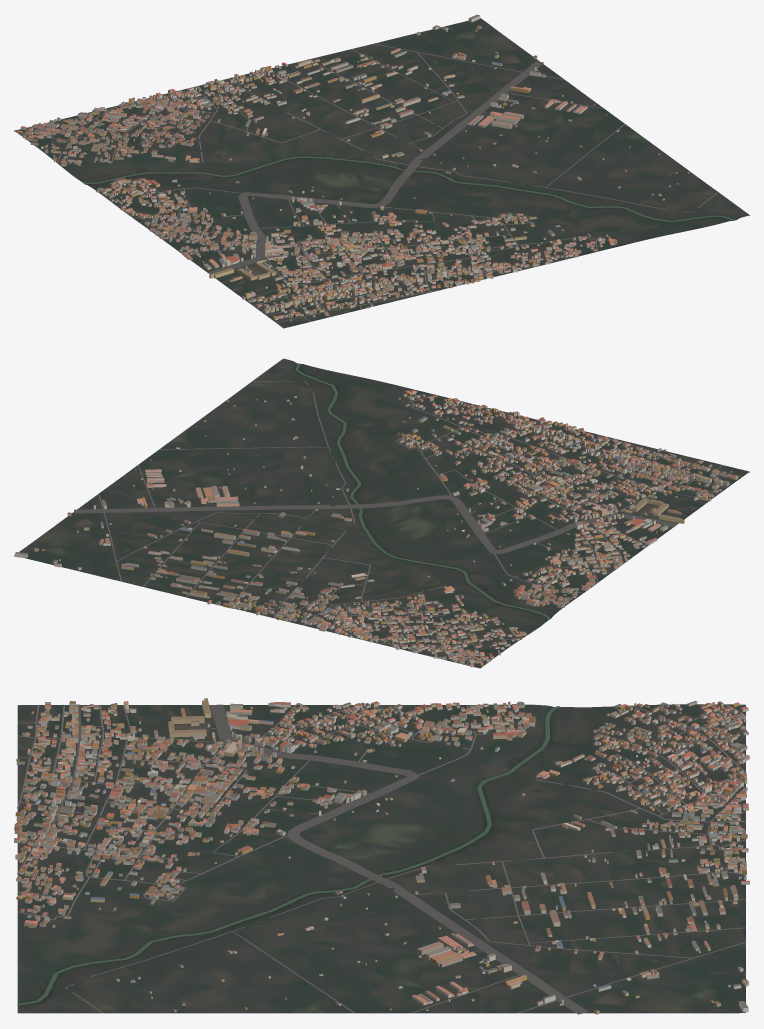
The picture shows the model from 3 angles, top to bottom: view 1: azimuth 30°, elevation 25°; view 2: azimuth 150°, elevation 25°; view 3: azimuth 270°, elevation 25°; orthographic projection. The views are drawn at different scales.
Parts seen in each view (by area): view 1: ground, buildings, roads, water; view 2: ground, buildings, roads, water; view 3: ground, buildings, roads, water.
Part boxes in pixels (x1,y1,x2,y2): ground: (14, 18, 749, 328); buildings: (17, 14, 689, 321); roads: (17, 31, 718, 322); water: (83, 156, 734, 222); ground: (14, 358, 749, 668); buildings: (15, 390, 738, 667); roads: (72, 380, 741, 665); water: (295, 363, 550, 619); ground: (17, 704, 745, 1013); buildings: (14, 698, 749, 1014); roads: (17, 704, 746, 1014); water: (17, 706, 560, 1005).
Size of the model in its own units: 1418 by 25.92 by 1417.
